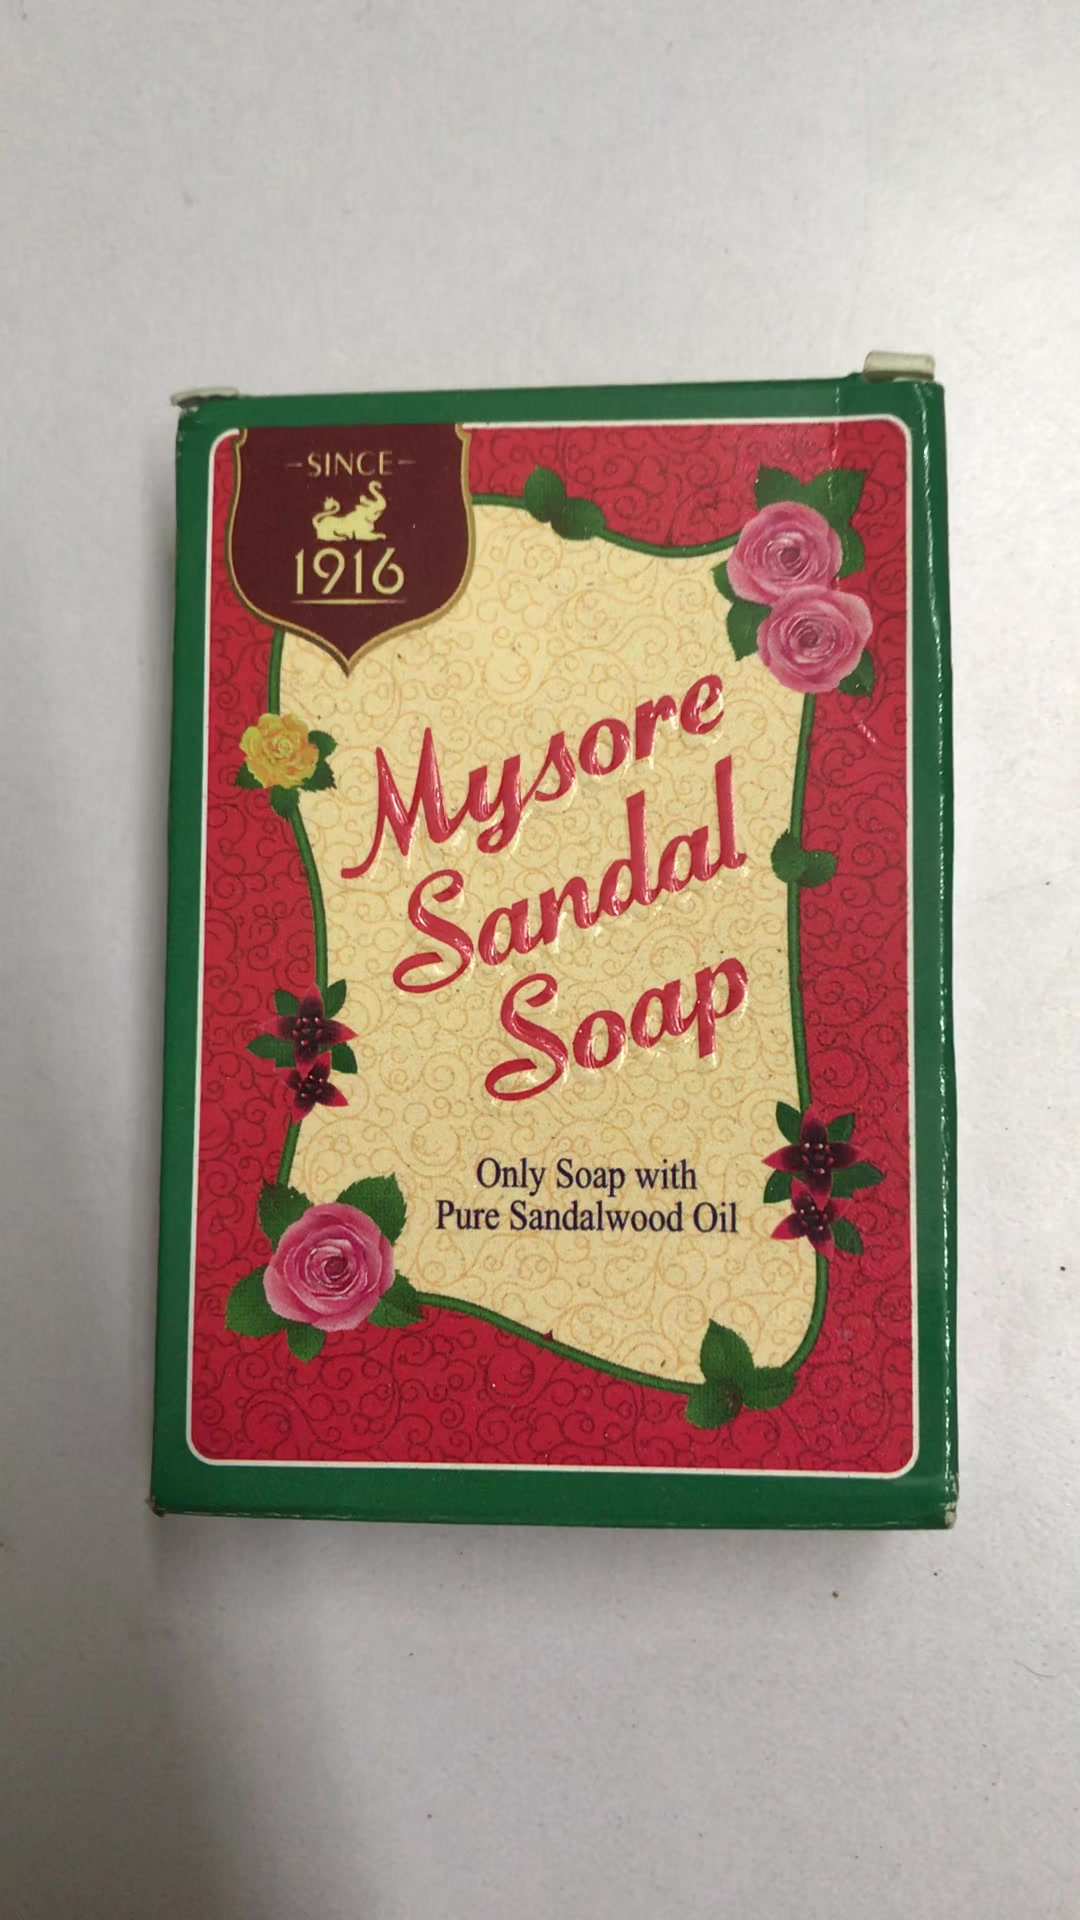mysore sandal soap: (167, 353, 943, 1538)
